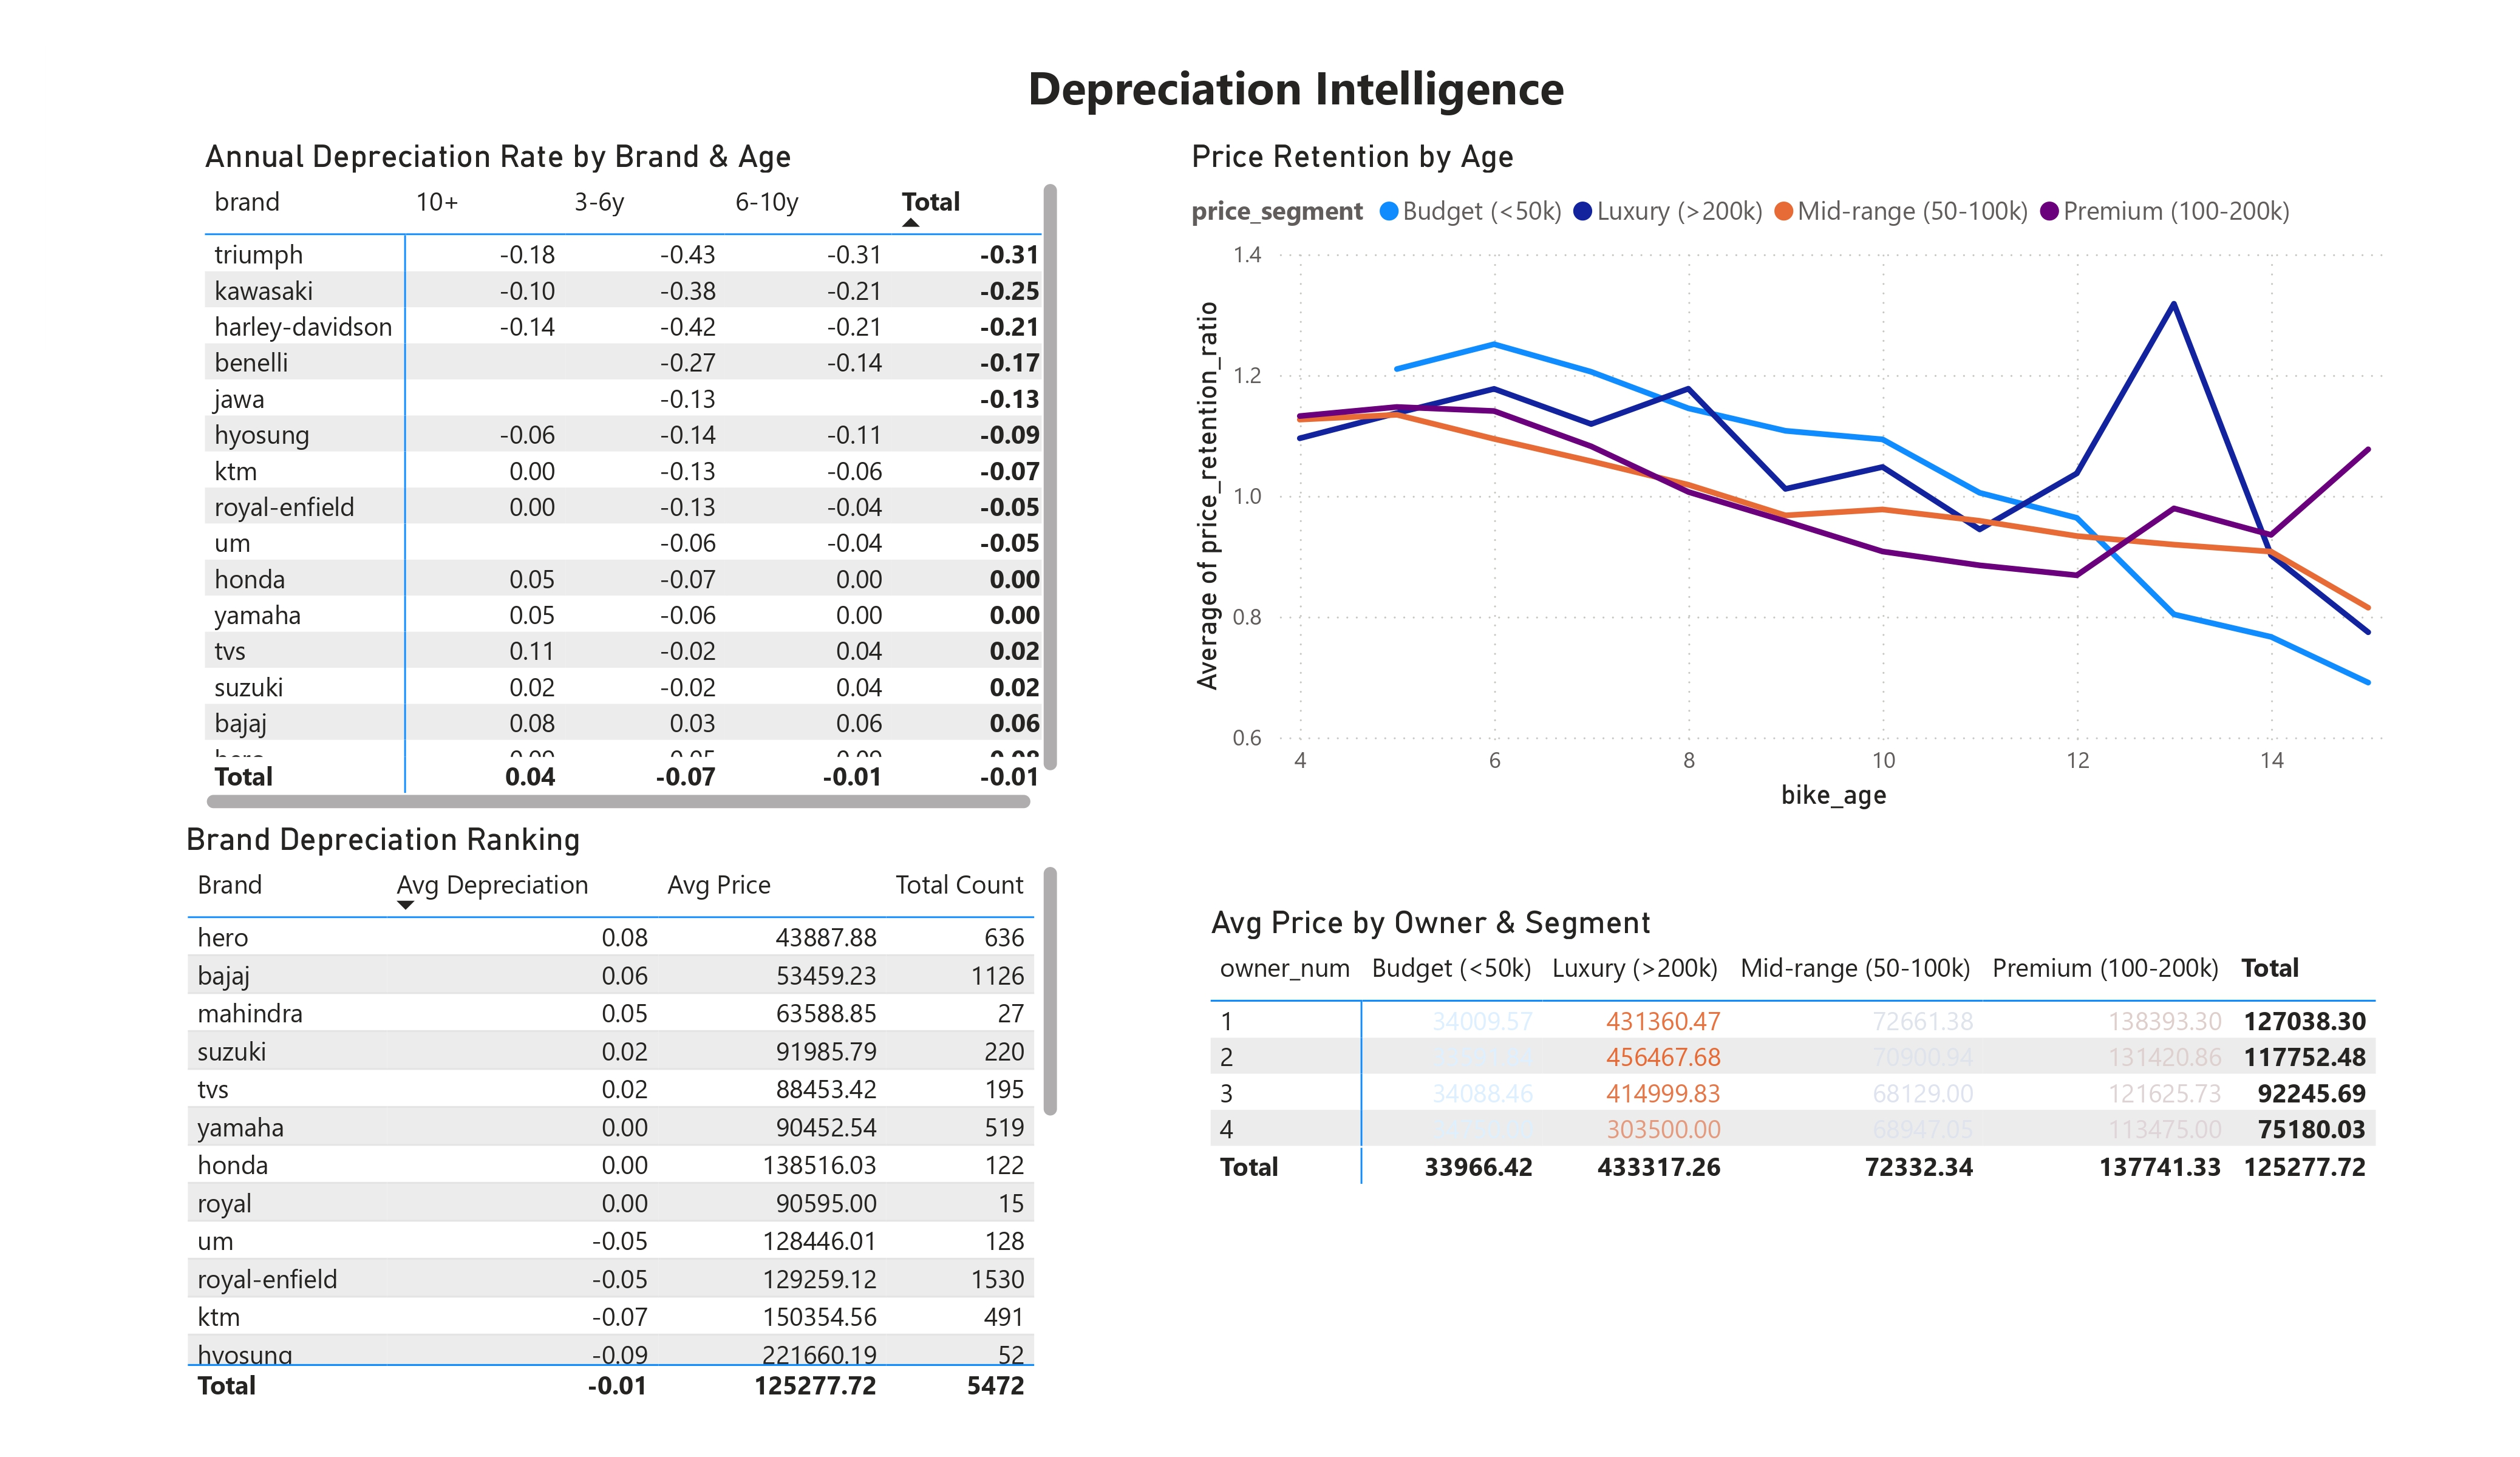

The dashboard page shown, as its layout file describes it:
{"tool":"powerbi","page":{"name":"Depreciation Intelligence","canvas":[1280,720],"ordinal":1},"visuals":[{"type":"pivotTable","title":"Annual Depreciation Rate by Brand & Age","fields":{"Rows":["bike_factory_depreciation.brand"],"Values":["Avg(bike_factory_depreciation.annual_depreciation)"],"Columns":["bike_factory_depreciation.age_group"]},"box":[78.8,47.7,460.1,359.9],"z":0},{"type":"lineChart","title":"Price Retention by Age","fields":{"Category":["bike_factory_depreciation.bike_age"],"Y":["Avg(bike_factory_depreciation.price_retention_ratio)"],"Series":["bike_factory_depreciation.price_segment"]},"box":[599.1,47.7,640,359.9],"z":1000},{"type":"tableEx","title":"Brand Depreciation Ranking","fields":{"Values":["bike_factory_depreciation.brand","Avg(bike_factory_depreciation.annual_depreciation)","Avg(bike_factory_depreciation.price)","CountNonNull(bike_factory_depreciation.brand)"]},"box":[69.1,407.5,469.8,312.2],"z":2000},{"type":"pivotTable","title":"Avg Price by Owner & Segment","fields":{"Rows":["bike_factory_depreciation.owner_num"],"Columns":["bike_factory_depreciation.price_segment"],"Values":["Avg(bike_factory_depreciation.price)"]},"box":[608.9,452.3,640,160.5],"z":3000},{"type":"textbox","box":[78.8,0,1160.4,47.7],"z":4000}]}

Visuals, with their boxes on the page's 1280x720 design canvas (x1, y1, x2, y2). These are canvas units, not pixel positions in the 2520x1457 screenshot, which may show the page scaled, cropped or inside an application window:
"Annual Depreciation Rate by Brand & Age" pivotTable: (x1=79, y1=48, x2=539, y2=408)
"Price Retention by Age" lineChart: (x1=599, y1=48, x2=1239, y2=408)
"Brand Depreciation Ranking" tableEx: (x1=69, y1=408, x2=539, y2=720)
"Avg Price by Owner & Segment" pivotTable: (x1=609, y1=452, x2=1249, y2=613)
textbox: (x1=79, y1=0, x2=1239, y2=48)
